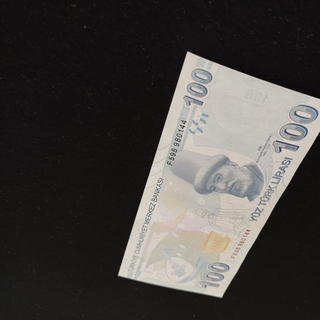100TLBack: (117, 51, 320, 298)
